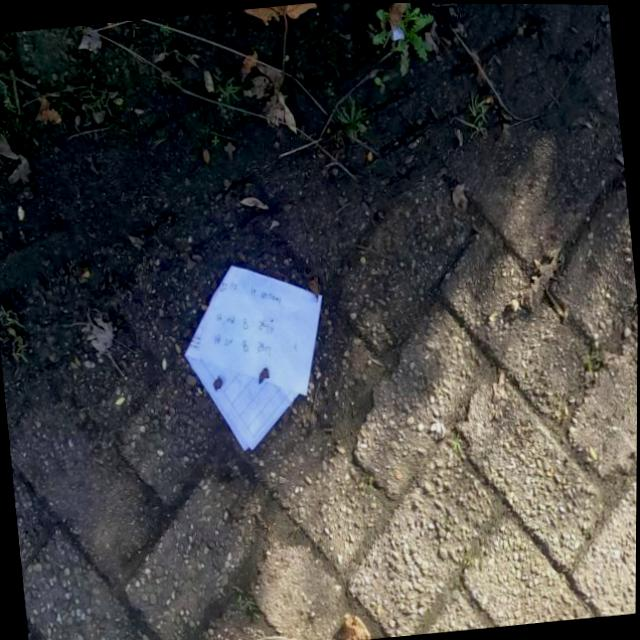Paper: (174, 255, 337, 453)
